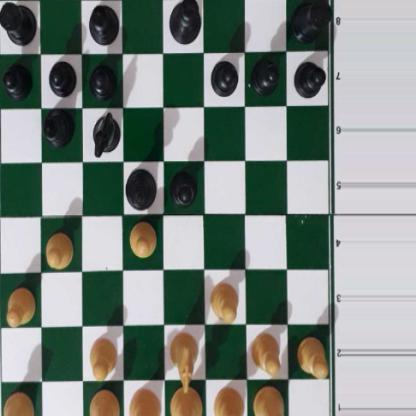black-bishop: (86, 3, 121, 45), (41, 109, 75, 148)
black-king: (168, 0, 201, 46)
black-knight: (92, 109, 119, 153)
black-pawn: (293, 57, 324, 98), (168, 167, 198, 206), (210, 56, 238, 96), (48, 57, 75, 97), (3, 60, 32, 97), (89, 59, 116, 98), (252, 56, 279, 94)
black-queen: (125, 167, 156, 210)
black-rook: (0, 0, 36, 45), (292, 0, 330, 42)
white-bishop: (212, 386, 245, 416), (89, 386, 118, 416)
white-king: (169, 383, 204, 416)
white-knight: (169, 330, 200, 393)
white-pawn: (250, 329, 282, 374), (87, 335, 117, 379), (296, 334, 328, 375), (43, 228, 74, 269), (4, 285, 35, 326), (209, 278, 238, 321), (128, 220, 156, 258)
white-queen: (128, 387, 161, 416)
white-rook: (253, 389, 291, 416), (0, 387, 33, 416)
